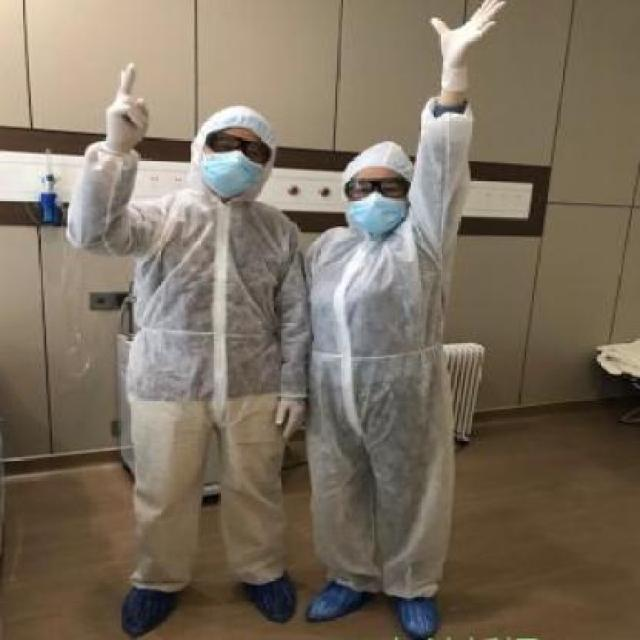face_mask: (349, 177, 408, 243), (199, 149, 266, 203)
glasses: (203, 131, 274, 169), (340, 174, 412, 203)
hand_glove: (428, 0, 504, 77), (105, 62, 149, 146), (268, 389, 308, 446)
person: (68, 48, 324, 628), (298, 3, 508, 640)
shoes: (107, 572, 190, 640), (235, 566, 302, 628), (305, 573, 377, 627), (386, 584, 446, 638)
